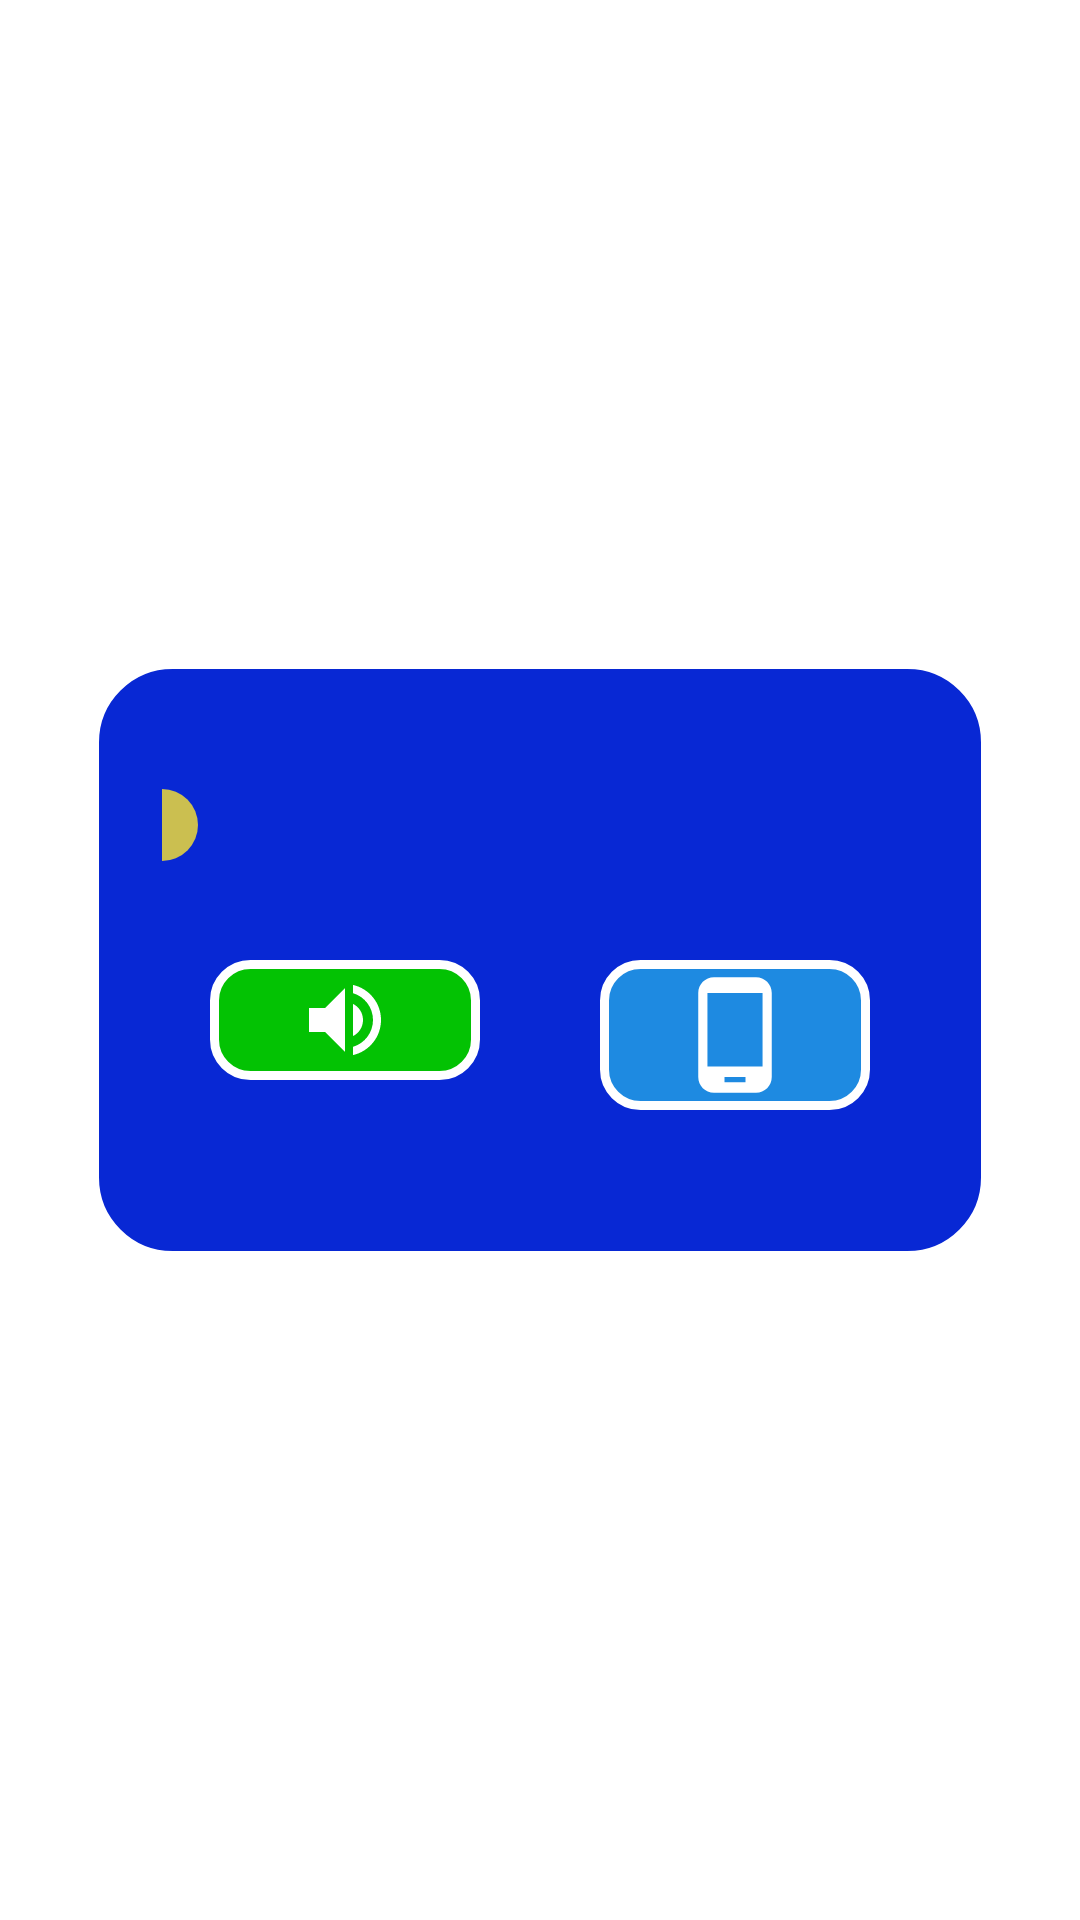

Icons on this 1080 × 1920 Android screen, each with the point to tap as point (x, y):
phone android: point (735, 1035)
volume up: point (345, 1020)
